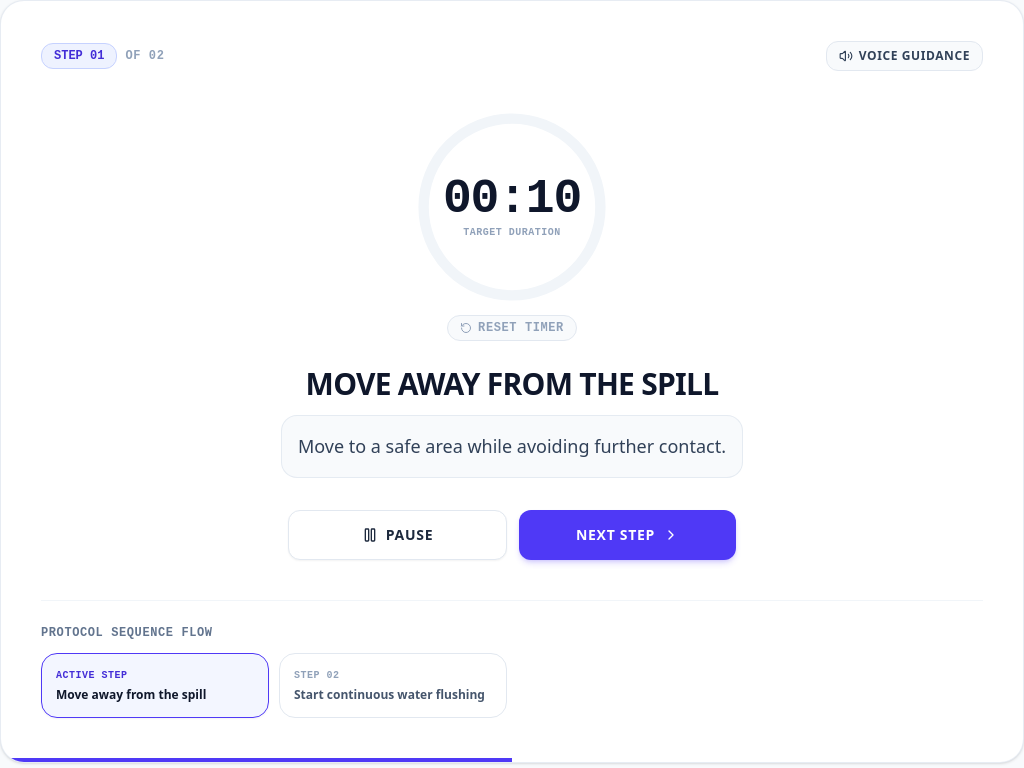
ProtocolRunner Component › advances to next step when Next button is clicked
This screenshot has width=1024, height=768.
Click the button "NEXT STEP".
click(628, 535)  # box [519, 510, 736, 560]
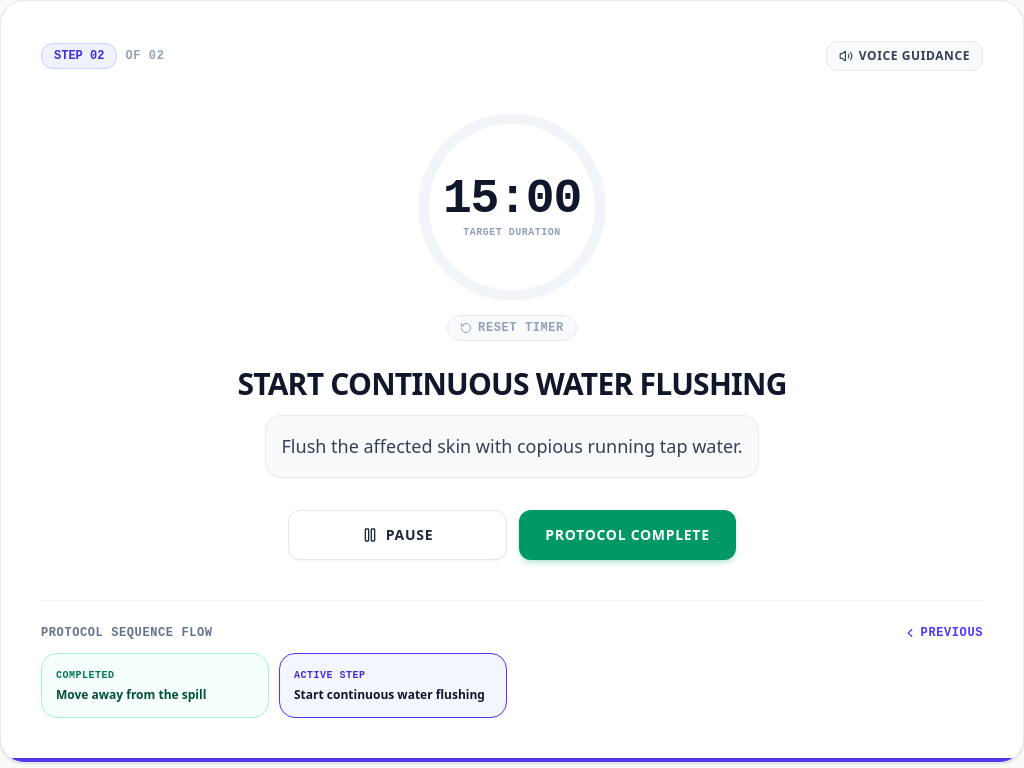
Now the heading "Start continuous water flushing" is shown, box [237, 365, 787, 402]
Now the text "Flush the affected skin with copious running tap water." is shown, box [282, 432, 742, 461]
Now the text "STEP 02" is shown, box [41, 43, 117, 69]
